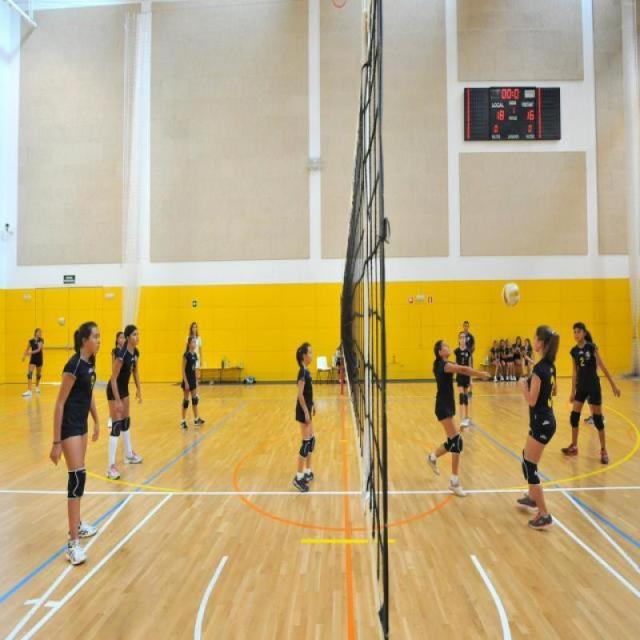volleyball: (502, 280, 520, 307)
